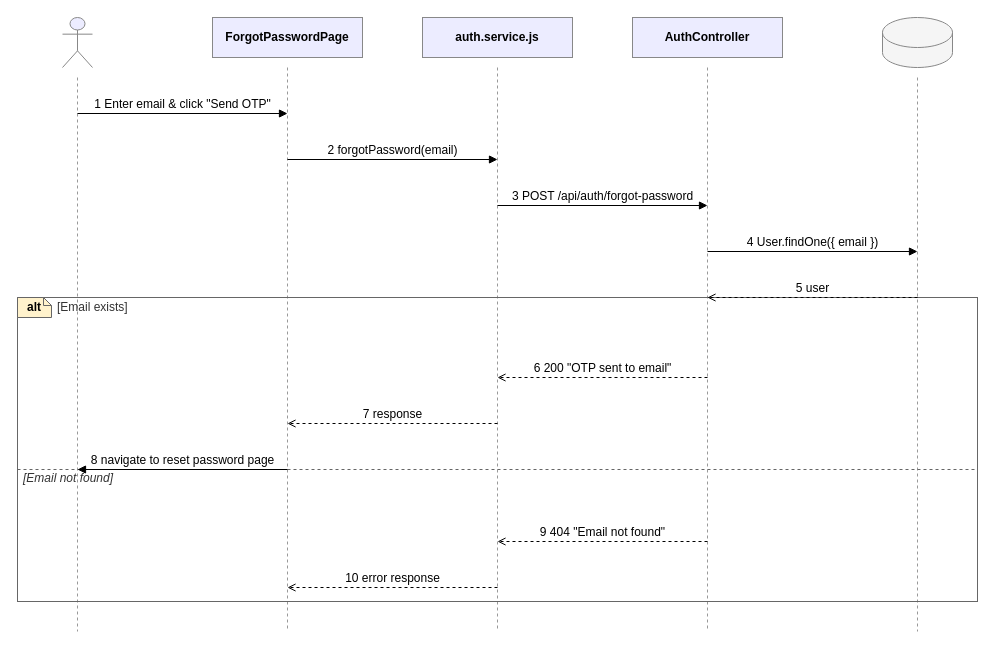
Image size: 996x650. Some labels were removed from this diagram. Here are the shapes that lost their labels. From the top down, the centre of each, then its label:
(77,42): User
(917,42): MongoDB
